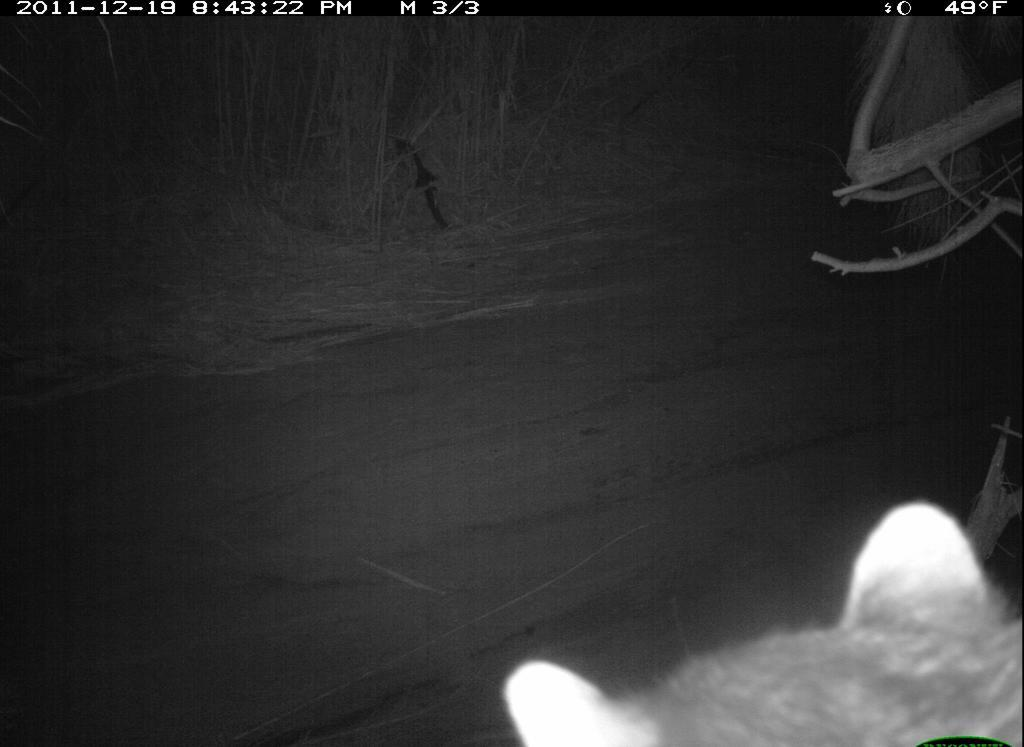raccoon: (493, 488, 1023, 747)
